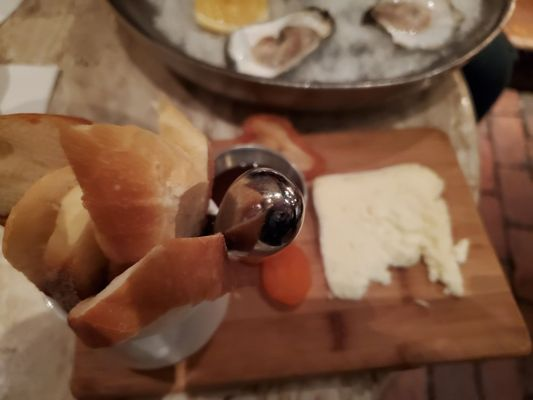sushi: (104, 0, 499, 116)
